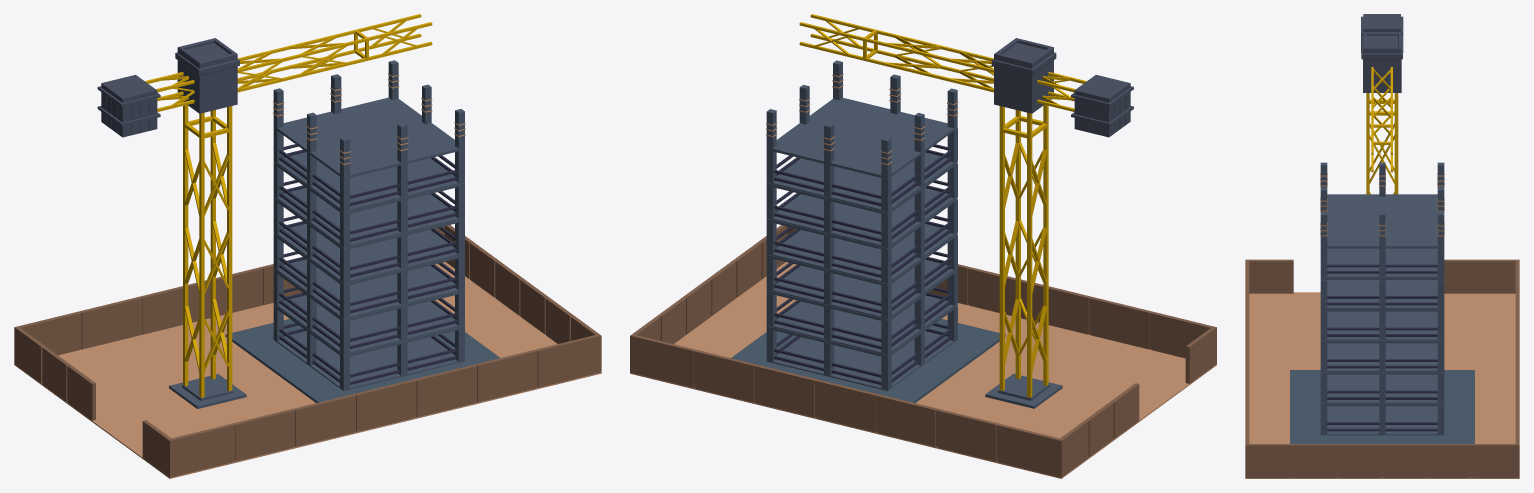
File: industrial-buildings-inconstruction-building.fbx
The picture shows the model from 3 angles, left to right: view 1: azimuth 30°, elevation 25°; view 2: azimuth 150°, elevation 25°; view 3: azimuth 270°, elevation 25°; orthographic projection. The views are drawn at different scales.
Visible parts, largest first — view 1: industrial-buildings-inconstruction-building; view 2: industrial-buildings-inconstruction-building; view 3: industrial-buildings-inconstruction-building.
Part boxes in pixels (box(x1,y1,x2,y2)): industrial-buildings-inconstruction-building: box(14, 14, 601, 478); industrial-buildings-inconstruction-building: box(630, 14, 1216, 478); industrial-buildings-inconstruction-building: box(1245, 14, 1519, 478).
Size of the model in its own units: 3558 by 2707 by 2219.
Materials: 1 (1 with a texture image).
